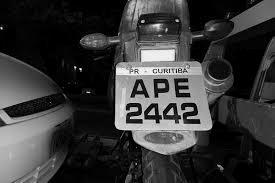placa_antiga: (115, 61, 211, 130)
